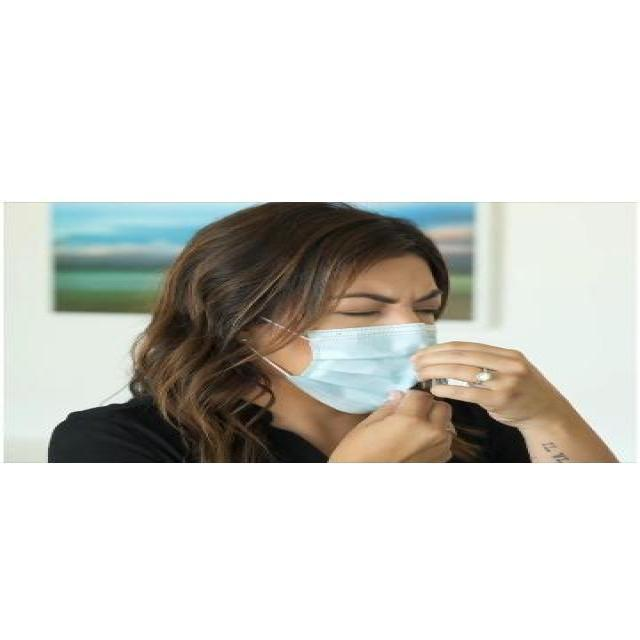bare_hand: (409, 323, 596, 432), (347, 400, 452, 469)
